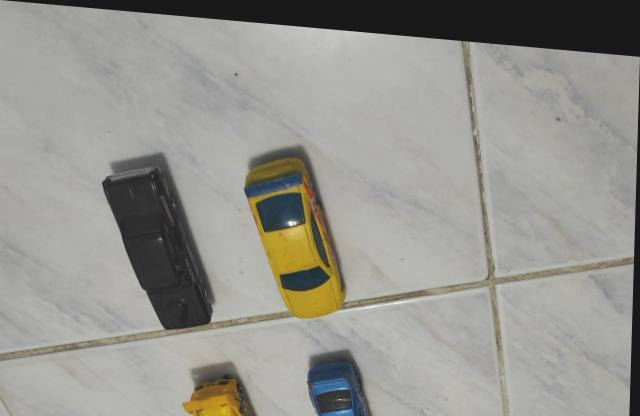01_FORD: (101, 161, 216, 325)
02_OZSOME: (244, 149, 348, 313)
04_MERZEDES: (310, 351, 380, 416)
07_RHLTURBO: (186, 372, 263, 416)
